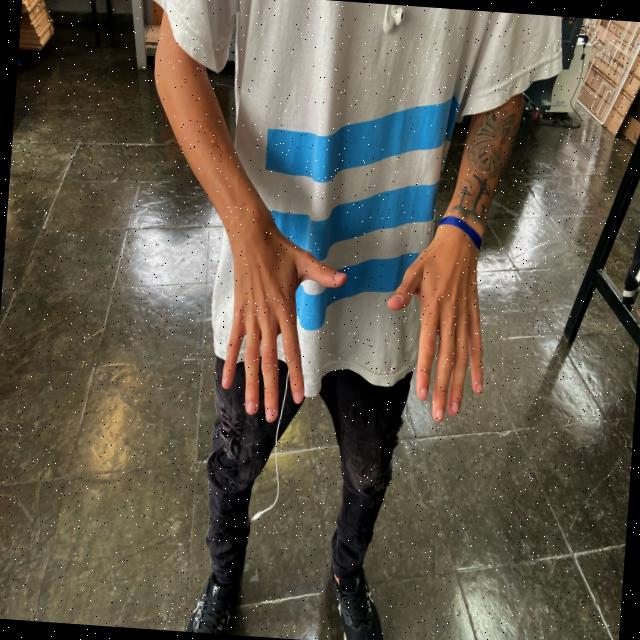SEM BOTA: (321, 544, 397, 640), (178, 566, 248, 633)
SEM LUVA: (213, 235, 352, 427), (375, 216, 493, 431)
